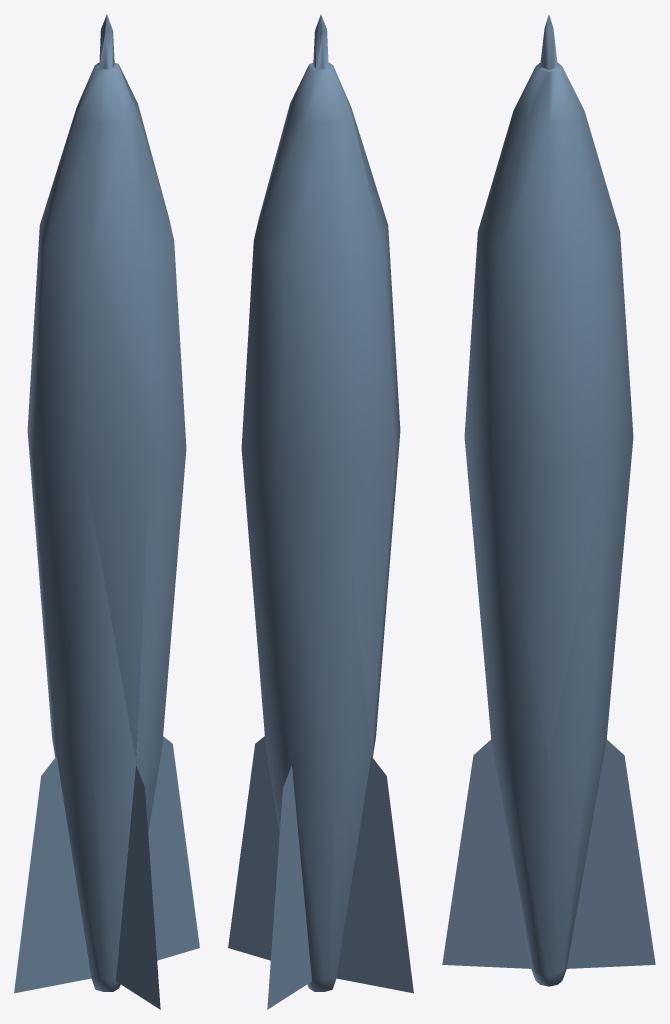
The picture shows the model from 3 angles, left to right: view 1: azimuth 30°, elevation 25°; view 2: azimuth 150°, elevation 25°; view 3: azimuth 270°, elevation 25°; orthographic projection.
Visible parts, largest first — view 1: db_m62bomb_pl45_Geometry_0.001; view 2: db_m62bomb_pl45_Geometry_0.001; view 3: db_m62bomb_pl45_Geometry_0.001.
Part boxes in pixels (x1=…): db_m62bomb_pl45_Geometry_0.001: x1=14, y1=14, x2=199, y2=1009; db_m62bomb_pl45_Geometry_0.001: x1=228, y1=14, x2=413, y2=1009; db_m62bomb_pl45_Geometry_0.001: x1=442, y1=15, x2=655, y2=986.
Bounding box in the file's own units: 0.48 × 2.4 × 0.48.
